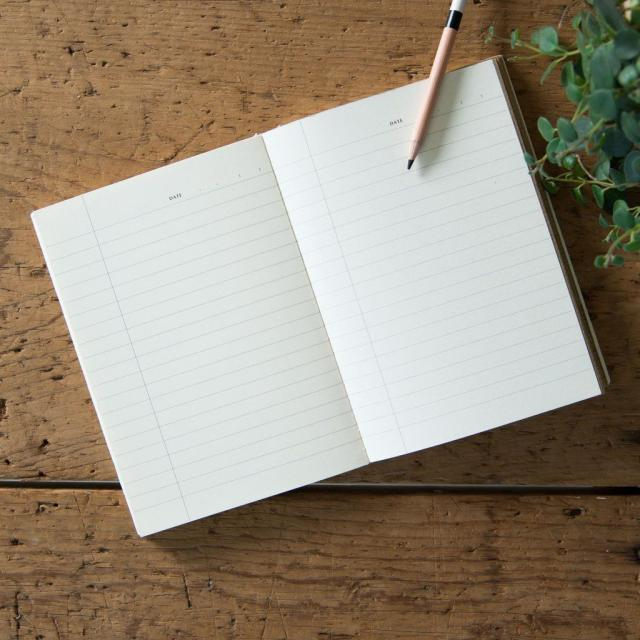notebook: (20, 39, 629, 567)
pen: (388, 0, 483, 184)
